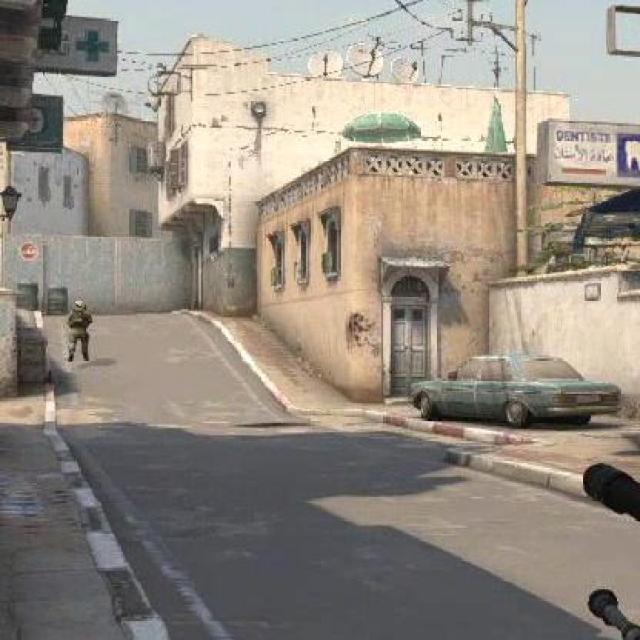CT-Body: (74, 298, 88, 310)
CT-Head: (64, 295, 98, 363)
